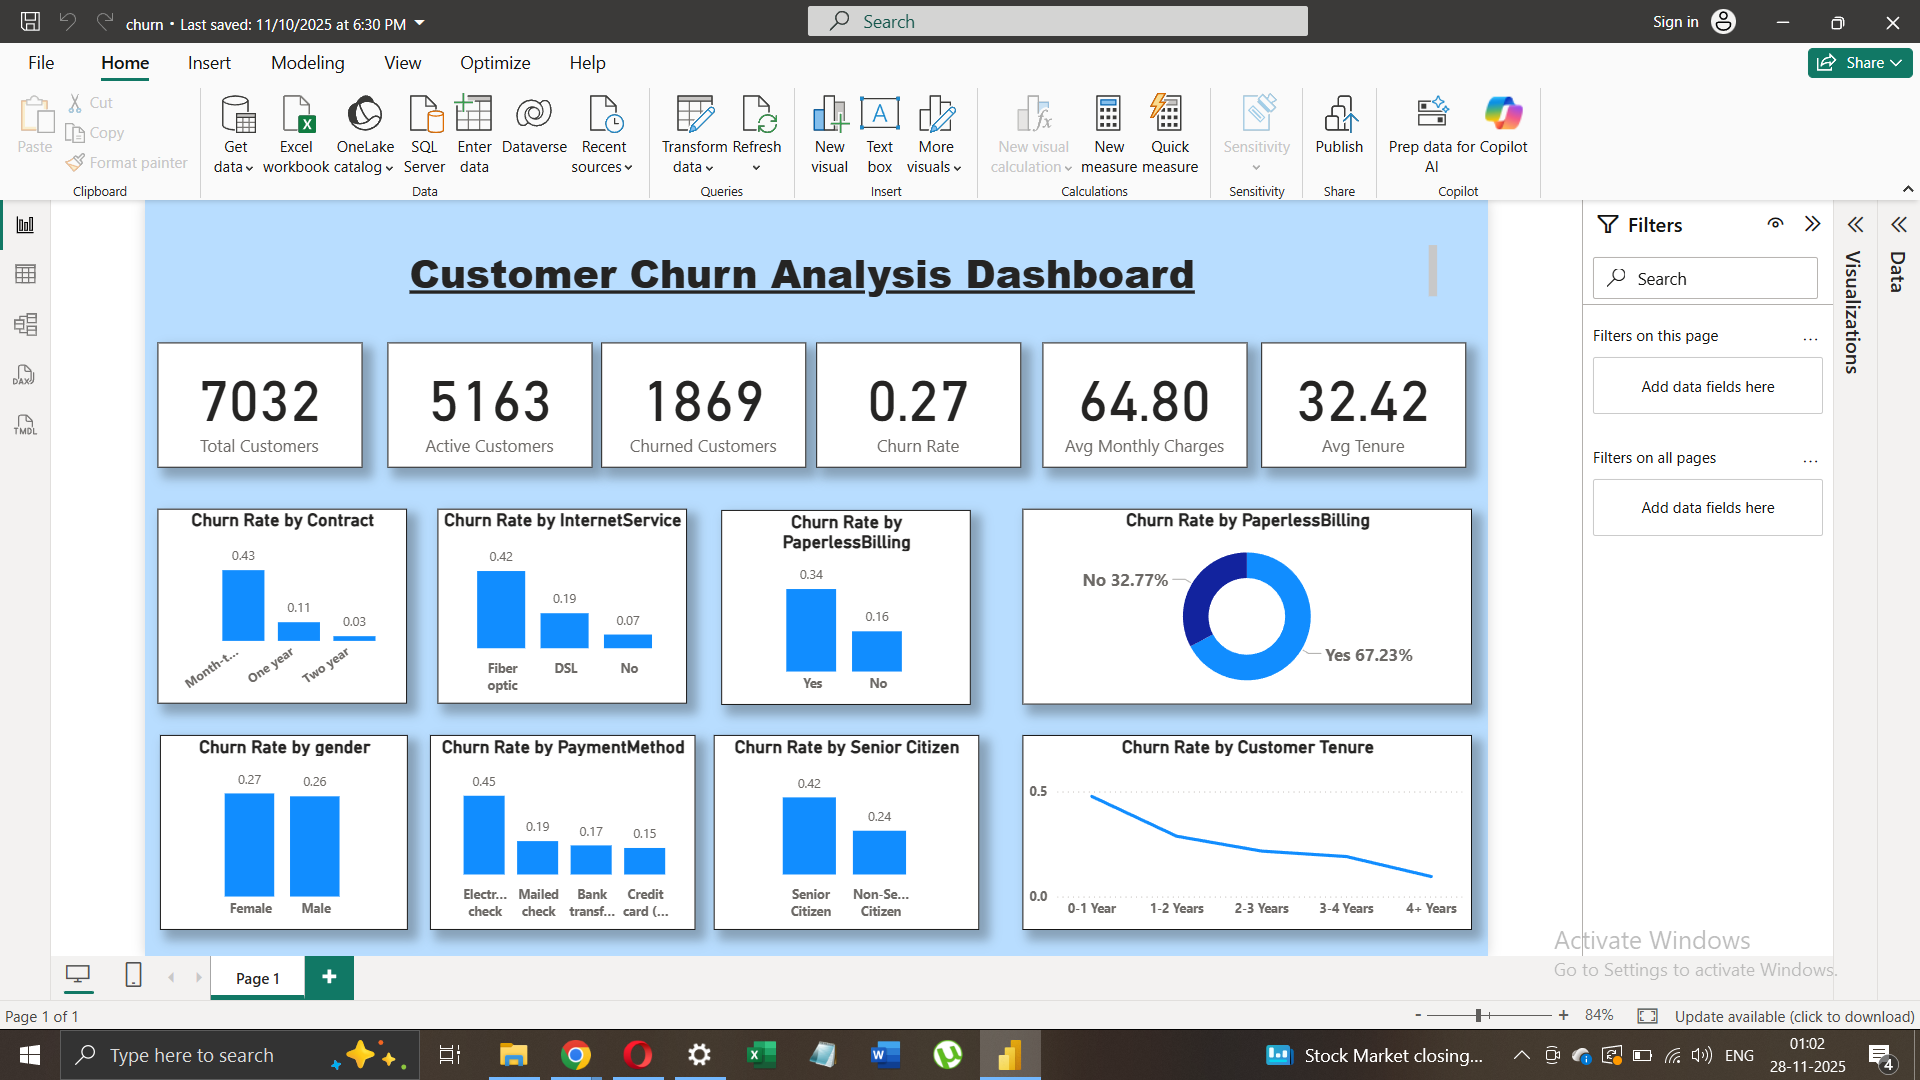

The page's visual inventory and layout, read from the dashboard file:
{"tool":"powerbi","page":{"name":"Page 1","canvas":[1280,720],"ordinal":0},"visuals":[{"type":"card","fields":{"Values":["Customer.Total Customers"]},"box":[12.3,135.8,194.9,119.4],"z":1},{"type":"card","fields":{"Values":["Customer.Active Customers"]},"box":[230.5,135.8,194.9,119.4],"z":2},{"type":"card","fields":{"Values":["Customer.Churned Customers"]},"box":[435,135.8,194.9,119.4],"z":3},{"type":"card","fields":{"Values":["Customer.Churn Rate"]},"box":[639.5,135.8,194.9,119.4],"z":4},{"type":"card","fields":{"Values":["Customer.Avg Monthly Charges"]},"box":[854.9,135.8,194.9,119.4],"z":5},{"type":"card","fields":{"Values":["Customer.Avg Tenure"]},"box":[1063.5,135.8,194.9,119.4],"z":6},{"type":"textbox","box":[24.7,38.4,1210.3,60.4],"z":7},{"type":"columnChart","fields":{"Category":["Customer.Contract"],"Y":["Customer.Churn Rate"]},"box":[12.3,293.7,237.4,185.2],"z":8},{"type":"columnChart","fields":{"Y":["Customer.Churn Rate"],"Category":["Customer.InternetService"]},"box":[278.6,293.7,237.4,185.2],"z":9},{"type":"donutChart","fields":{"Y":["Customer.Churn Rate"],"Category":["Customer.PaperlessBilling"]},"box":[835.7,293.7,428.1,186.6],"z":10},{"type":"columnChart","fields":{"Y":["Customer.Churn Rate"],"Category":["Customer.gender"]},"box":[13.7,509.1,236,185.2],"z":11},{"type":"columnChart","fields":{"Y":["Customer.Churn Rate"],"Category":["Customer.PaymentMethod"]},"box":[271.7,509.1,252.5,185.2],"z":12},{"type":"columnChart","fields":{"Y":["Customer.Churn Rate"],"Category":["Customer.PaperlessBilling"]},"box":[548.9,295,237.4,185.2],"z":13},{"type":"lineChart","fields":{"Y":["Customer.Churn Rate"],"Category":["Customer.Customer Tenure"]},"box":[835.7,509.1,428.1,185.2],"z":14},{"type":"columnChart","title":"Churn Rate by Senior Citizen","fields":{"Y":["Customer.Churn Rate"],"Category":["Customer.SeniorCitizenLabel"]},"box":[542,509.1,252.5,185.2],"z":15}]}

Visuals, with their boxes on the page's 1280x720 design canvas (x1, y1, x2, y2). These are canvas units, not pixel positions in the 1920x1080 screenshot, which may show the page scaled, cropped or inside an application window:
card - Customer.Total Customers: [12,136,207,255]
card - Customer.Active Customers: [230,136,425,255]
card - Customer.Churned Customers: [435,136,630,255]
card - Customer.Churn Rate: [640,136,834,255]
card - Customer.Avg Monthly Charges: [855,136,1050,255]
card - Customer.Avg Tenure: [1064,136,1258,255]
textbox: [25,38,1235,99]
columnChart - Customer.Contract x Customer.Churn Rate: [12,294,250,479]
columnChart - Customer.Churn Rate x Customer.InternetService: [279,294,516,479]
donutChart - Customer.Churn Rate x Customer.PaperlessBilling: [836,294,1264,480]
columnChart - Customer.Churn Rate x Customer.gender: [14,509,250,694]
columnChart - Customer.Churn Rate x Customer.PaymentMethod: [272,509,524,694]
columnChart - Customer.Churn Rate x Customer.PaperlessBilling: [549,295,786,480]
lineChart - Customer.Churn Rate x Customer.Customer Tenure: [836,509,1264,694]
"Churn Rate by Senior Citizen" columnChart: [542,509,794,694]
